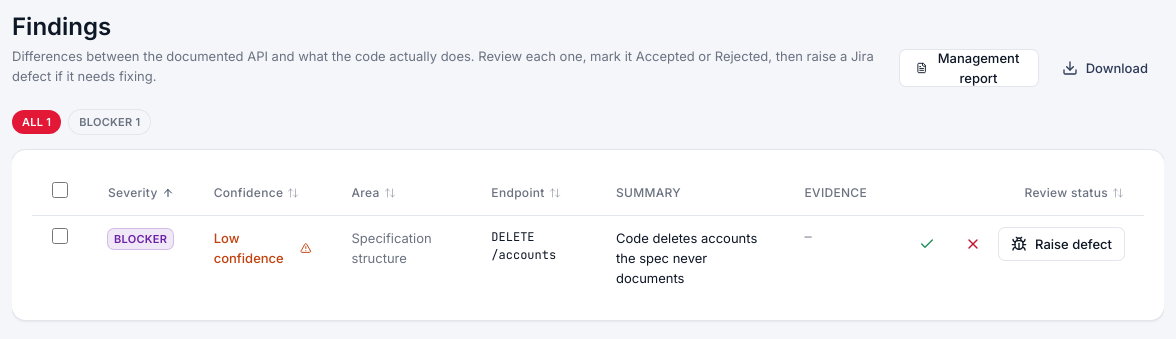
Test: Findings — risky confidence + evidence link › flags a high-severity low-confidence finding with a verify-before-acting warning
Expected: the text "Code deletes accounts the spec never documents" is shown, [616,228,765,288]
Hover over the text "Low confidence": [263, 248] box [214,228,312,268]
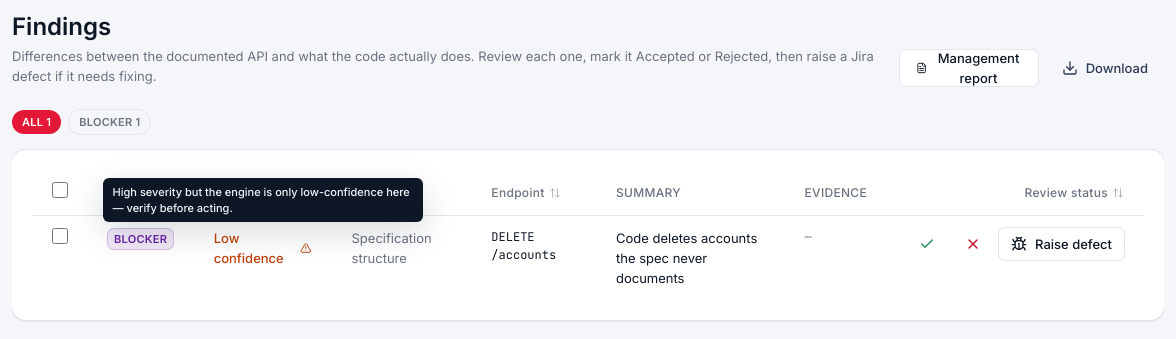
Expected: the tooltip "only low-confidence here — verify before acting" is shown, [103,178,423,222]
